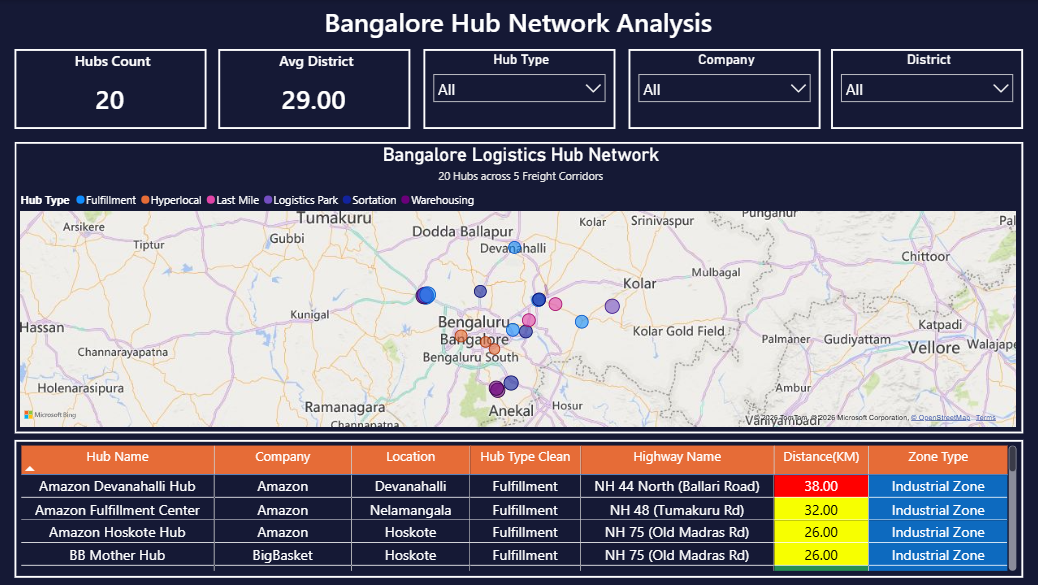

Layout of this report page (visuals, bound fields, positions):
{"tool":"powerbi","page":{"name":"Page 2","canvas":[1280,720],"ordinal":1},"visuals":[{"type":"textbox","box":[363.7,0,551.1,60.3],"z":0},{"type":"map","title":"Bangalore Logistics Hub Network","fields":{"Y":["vw_hubs_zones_corridors.hub_latitude"],"X":["vw_hubs_zones_corridors.hub_longitude"],"Series":["vw_hubs_zones_corridors.hub_type_clean"],"Size":["Sum(vw_hubs_zones_corridors.trucks_per_day)"]},"box":[19.1,174.7,1241.9,358.9],"z":1000},{"type":"slicer","title":"Hub Type ","fields":{"Values":["vw_hubs_zones_corridors.hub_type_clean"]},"box":[522.5,60.3,236.6,98.5],"z":2000},{"type":"slicer","title":"Company","fields":{"Values":["vw_hubs_zones_corridors.company"]},"box":[775,60.3,236.6,98.5],"z":3000},{"type":"slicer","title":"District","fields":{"Values":["vw_hubs_zones_corridors.district"]},"box":[1024.3,60.3,236.6,98.5],"z":4000},{"type":"cardVisual","title":"Hubs Count","fields":{"Data":["vw_hubs_zones_corridors.Selected Hubs Count"]},"box":[19.1,60.3,236.6,98.5],"z":5000},{"type":"cardVisual","title":"Avg District","fields":{"Data":["vw_hubs_zones_corridors.Avg Hub Distance"]},"box":[270,60.3,236.6,98.5],"z":6000},{"type":"tableEx","fields":{"Values":["vw_hubs_zones_corridors.hub_name","vw_hubs_zones_corridors.company","vw_hubs_zones_corridors.location","vw_hubs_zones_corridors.hub_type_clean","vw_hubs_zones_corridors.highway_name","Avg(vw_hubs_zones_corridors.distance_km)","vw_hubs_zones_corridors.zone_type"]},"box":[19.1,541.5,1241.9,169.9],"z":7000}]}

Visuals, with their boxes in screenshot pixels (x1, y1, x2, y2), scaled from the page's 1280x720 canvas onto the 1038x585 screenshot:
textbox: x1=295 y1=0 x2=742 y2=49
"Bangalore Logistics Hub Network" map: x1=15 y1=142 x2=1023 y2=434
"Hub Type " slicer: x1=424 y1=49 x2=616 y2=129
"Company" slicer: x1=628 y1=49 x2=820 y2=129
"District" slicer: x1=831 y1=49 x2=1023 y2=129
"Hubs Count" cardVisual: x1=15 y1=49 x2=207 y2=129
"Avg District" cardVisual: x1=219 y1=49 x2=411 y2=129
tableEx - vw_hubs_zones_corridors.hub_name x vw_hubs_zones_corridors.company: x1=15 y1=440 x2=1023 y2=578
